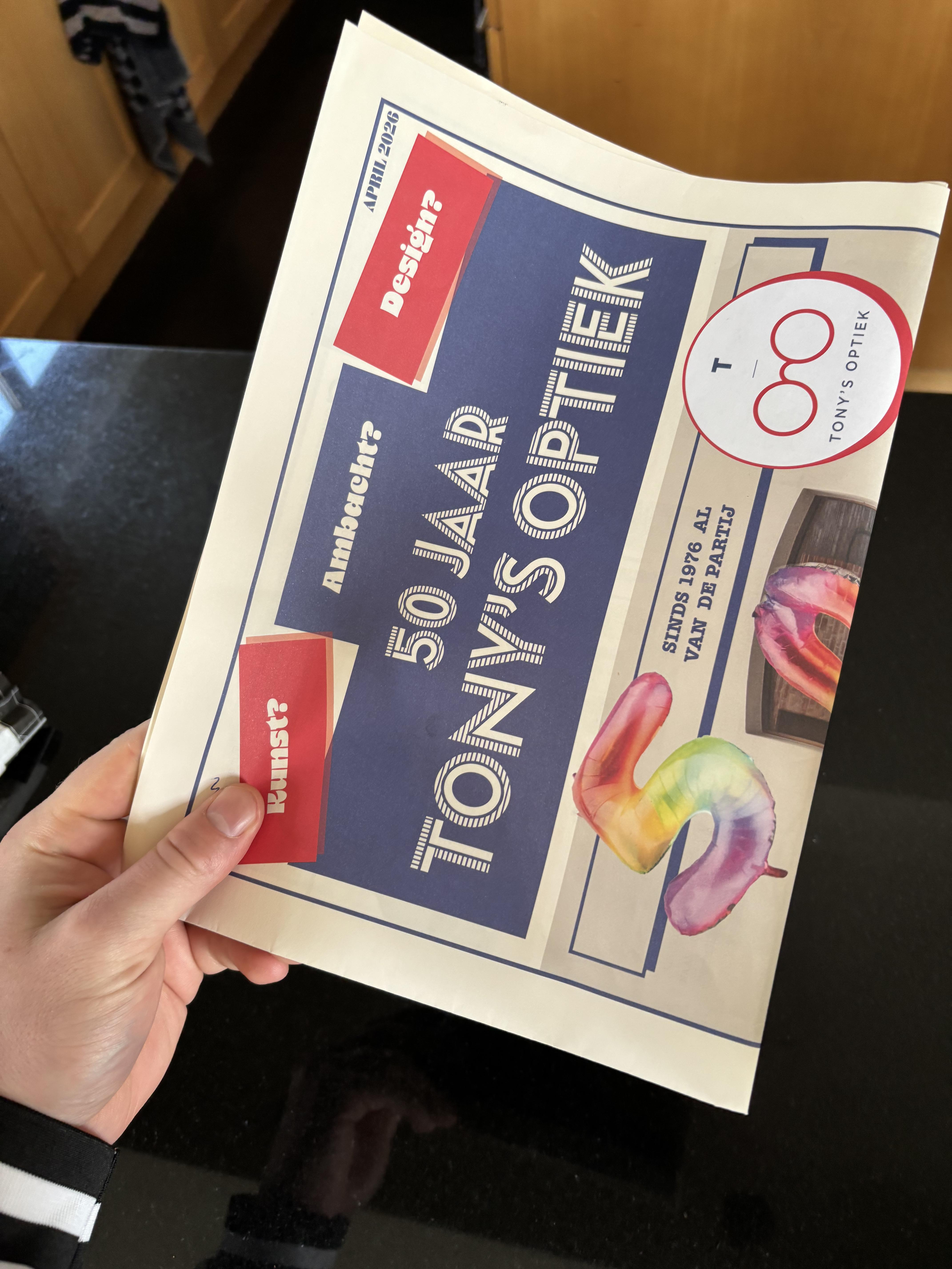Paper: (113, 9, 952, 1122)
